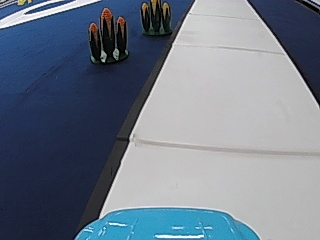corn: (87, 5, 130, 63), (138, 0, 174, 36)
